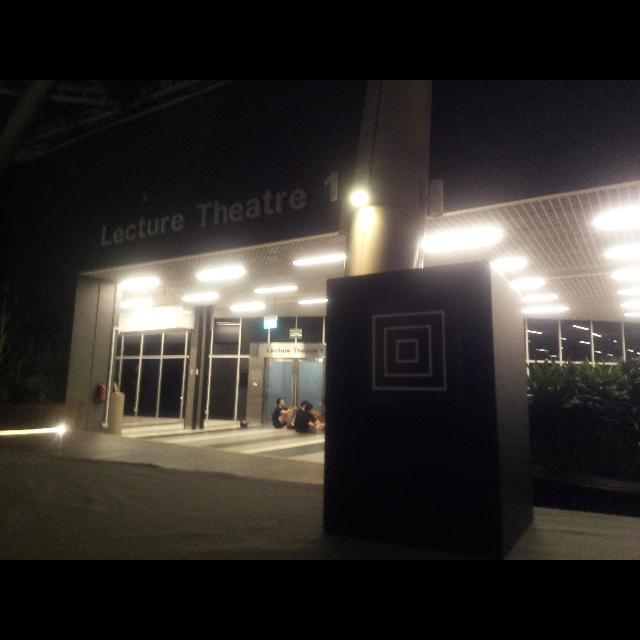BULLSEYE: (372, 311, 446, 391)
